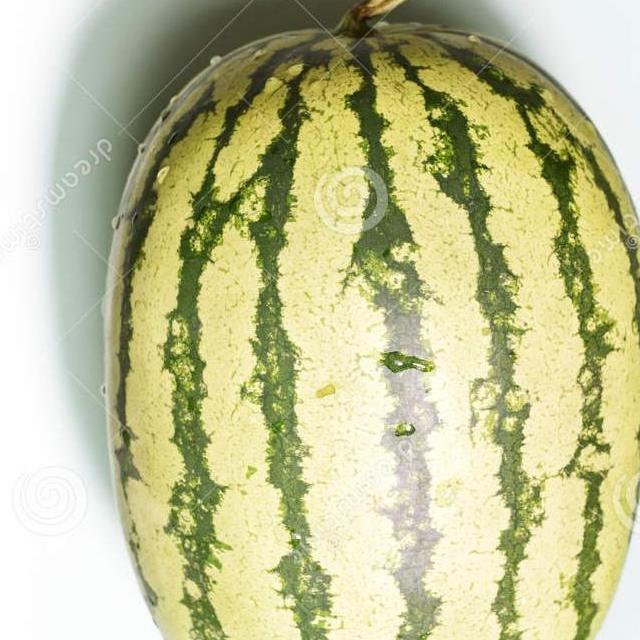watermelon: (116, 52, 629, 640)
